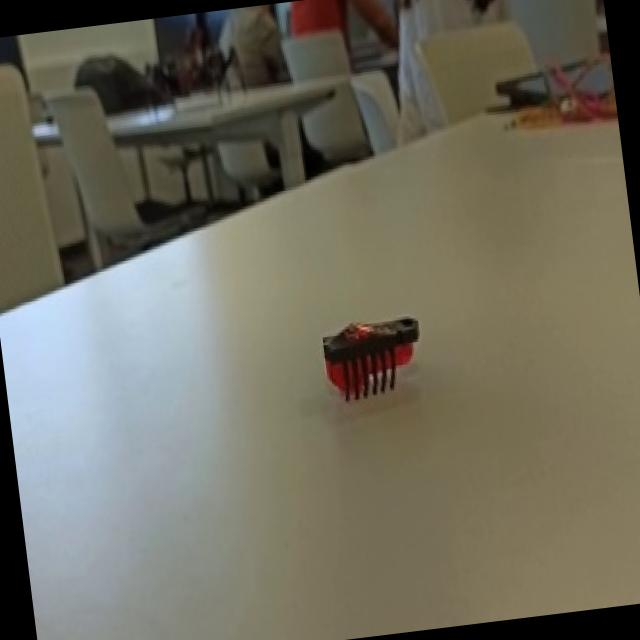2_NanoBug_Negro: (290, 270, 458, 442)
